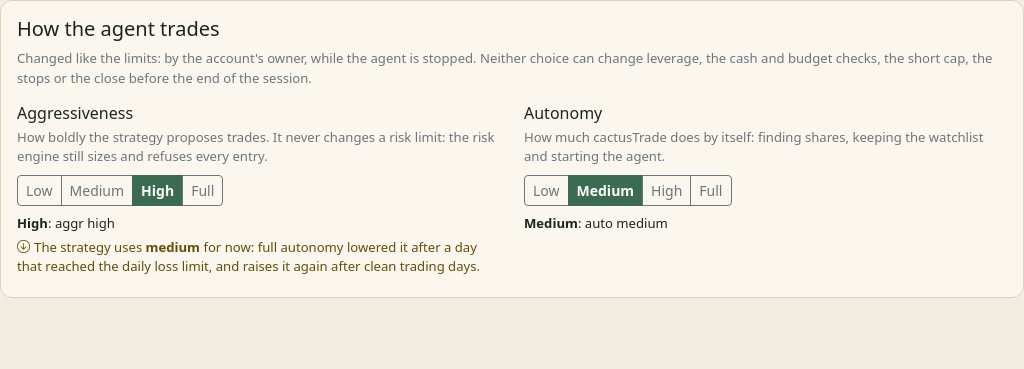
AgentStylePanel › shows both levels in plain words and sends one change
Check: the message shows "uses medium for now", box [17,238,500,277]
What coordinates should you click on to do the following:
click the button with aria-label "Autonomy Full"
I would click on:
 (711, 190)
Its box is [690,175,732,206].
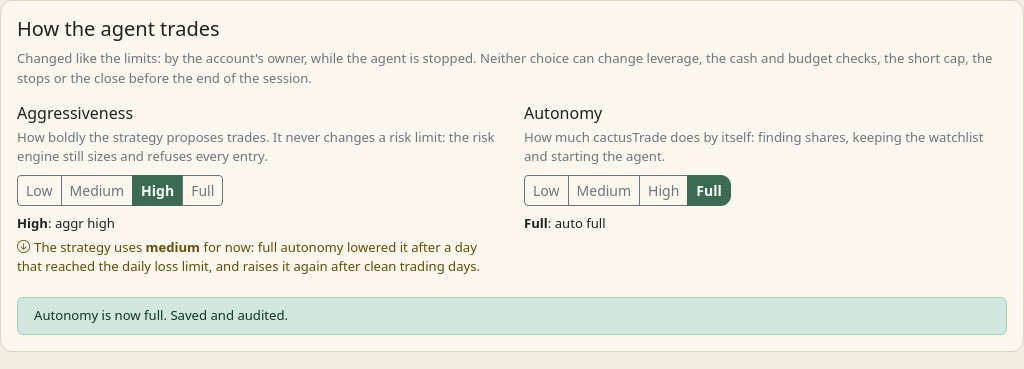
Check: the text "Autonomy is now full. Saved and audited." is shown, box [17,297,1007,335]
